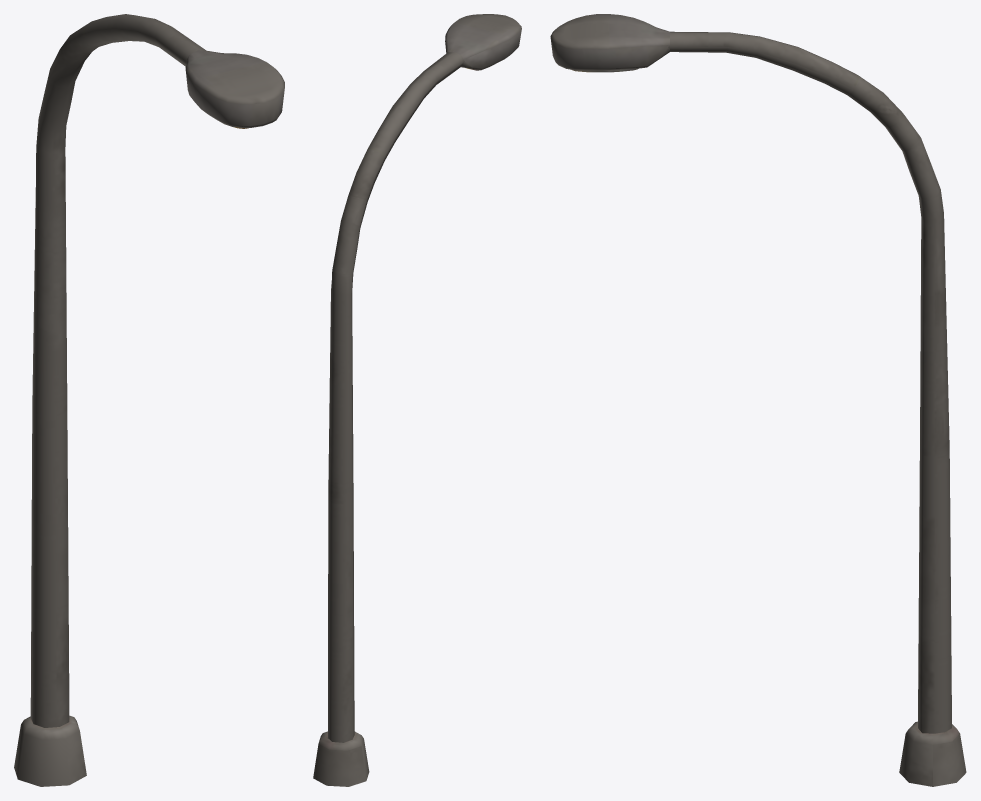
The model's file is street_lamp.gltf.
3 views of the same model, side by side, from view 1: azimuth 30°, elevation 25°; view 2: azimuth 150°, elevation 25°; view 3: azimuth 270°, elevation 25° (orthographic). The views are drawn at different scales.
Parts seen in each view (by area): view 1: street_lamp; view 2: street_lamp; view 3: street_lamp.
Part boxes in pixels (x1=…): street_lamp: x1=14, y1=14, x2=284, y2=786; street_lamp: x1=313, y1=14, x2=521, y2=786; street_lamp: x1=550, y1=14, x2=966, y2=786.
Size of the model in its own units: 0.7165 by 7.5 by 3.8.
Materials: 1 (1 with a texture image).
